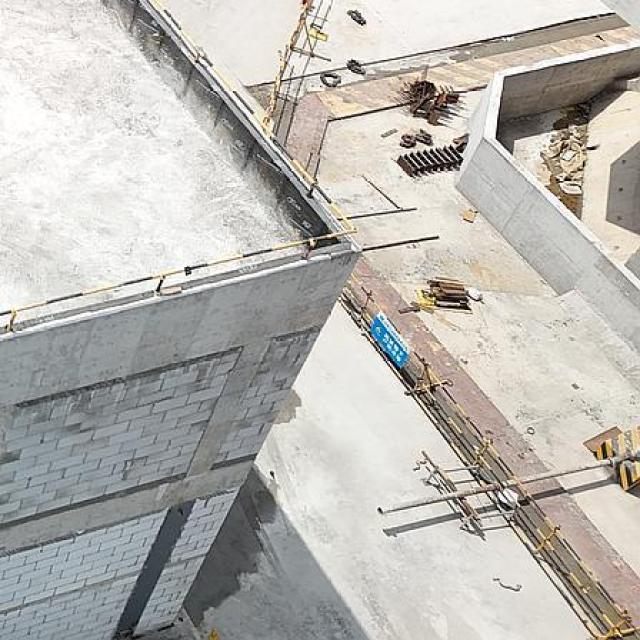edge_guardrail: (0, 0, 360, 331)
